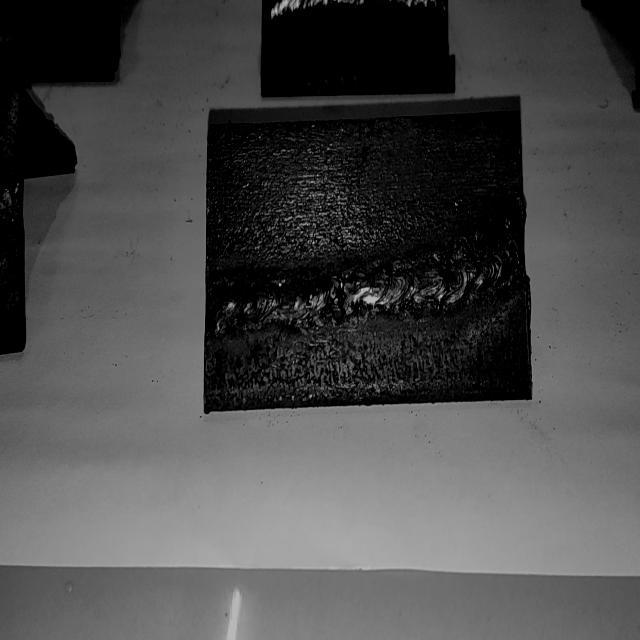Welding Line: (210, 224, 520, 333)
Workpiece: (202, 108, 524, 416)
